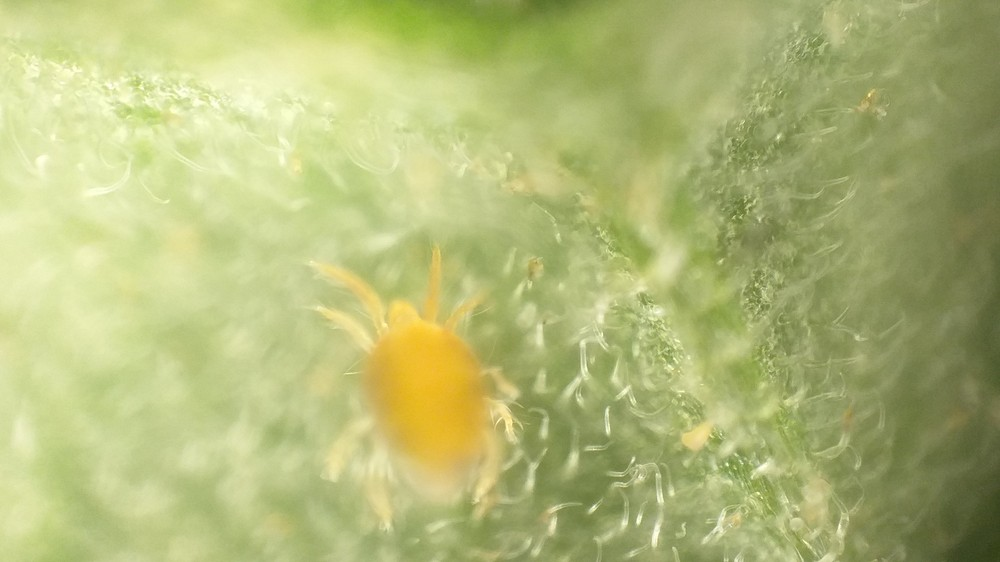Aracnido Rojo: (290, 241, 549, 539)
